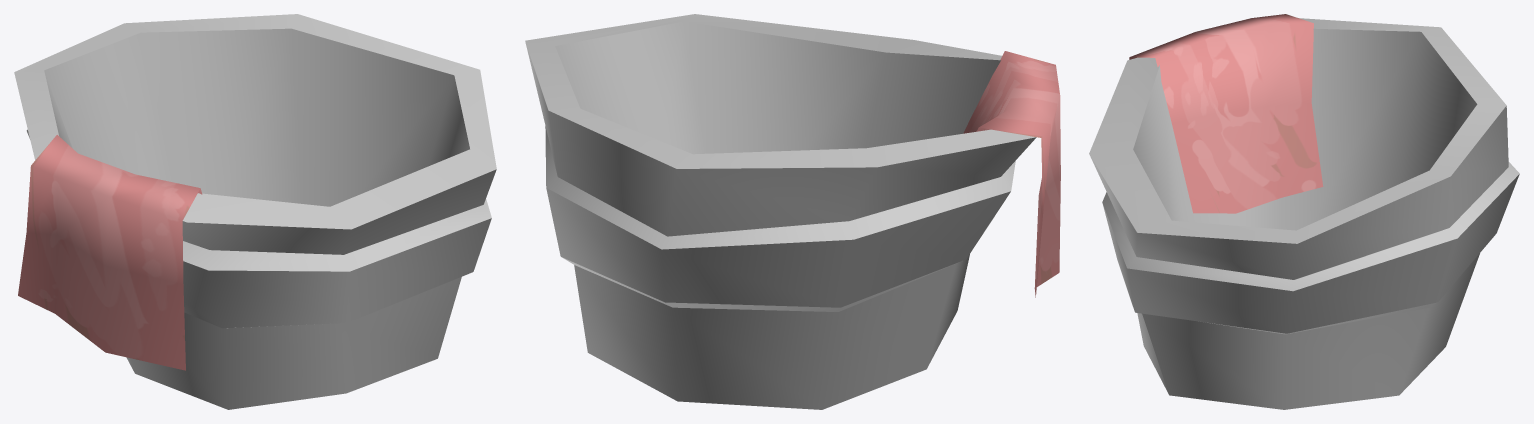
File: SM_PROP_bucket_03.fbx
3 views of the same model, side by side, from view 1: azimuth 30°, elevation 25°; view 2: azimuth 150°, elevation 25°; view 3: azimuth 270°, elevation 25° (orthographic). The views are drawn at different scales.
Parts seen in each view (by area): view 1: SM_PROP_bucket_03; view 2: SM_PROP_bucket_03; view 3: SM_PROP_bucket_03.
Part boxes in pixels (x1=…): SM_PROP_bucket_03: x1=14, y1=14, x2=496, y2=409; SM_PROP_bucket_03: x1=525, y1=14, x2=1060, y2=409; SM_PROP_bucket_03: x1=1089, y1=14, x2=1519, y2=409.
Bounding box in the file's own units: 70.5 × 37.41 × 60.22.
